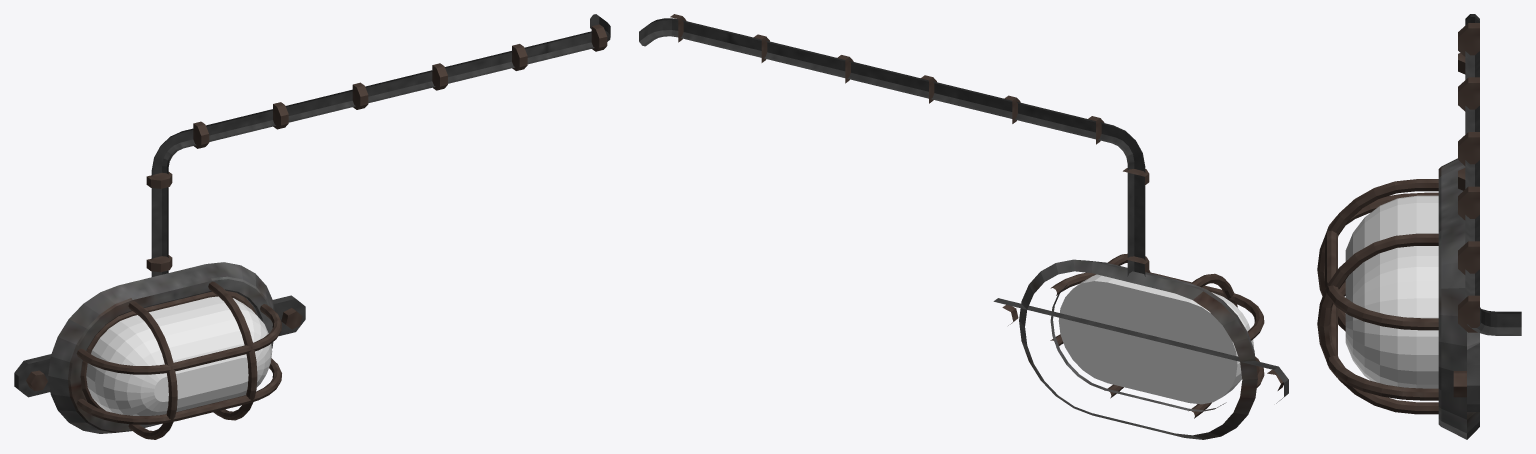
3 renders of one model, left to right at view 1: azimuth 30°, elevation 25°; view 2: azimuth 150°, elevation 25°; view 3: azimuth 270°, elevation 25°, orthographic. The views are drawn at different scales.
Visible parts, largest first — view 1: lamp_1; view 2: lamp_1; view 3: lamp_1.
Part boxes in pixels (bbox=[...]): lamp_1: bbox=[14, 14, 610, 439]; lamp_1: bbox=[639, 14, 1288, 439]; lamp_1: bbox=[1317, 14, 1521, 439].
Bounding box in the file's own units: 0.7532 × 0.343 × 0.1583.
Materials: 4 (3 with a texture image).
